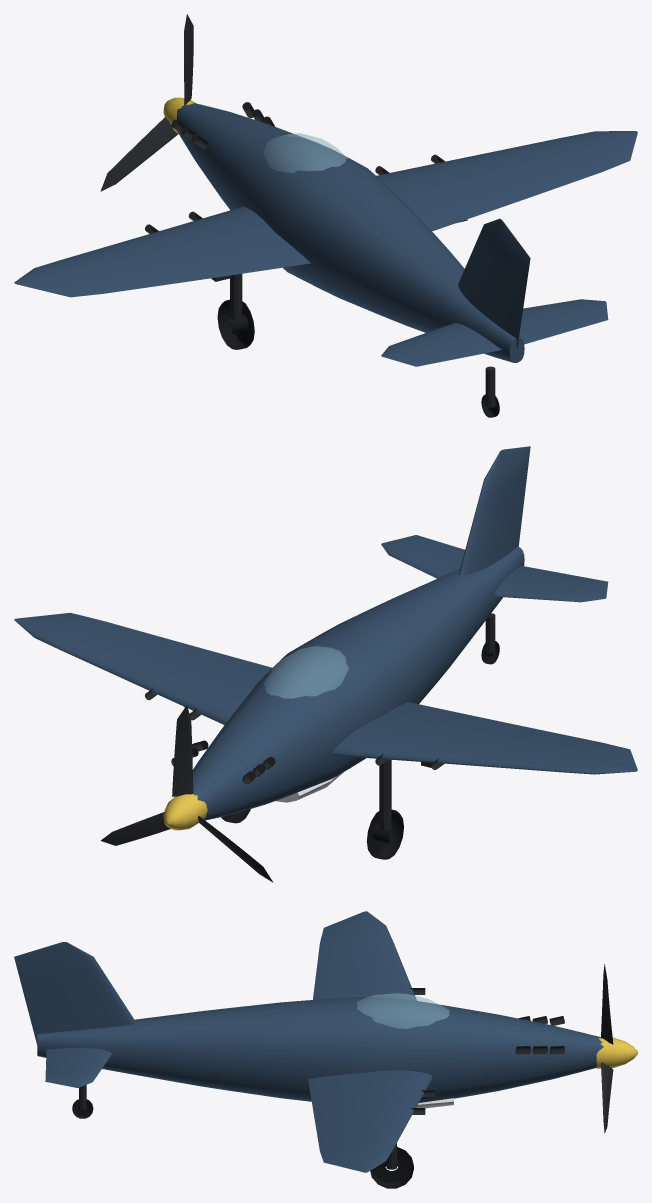
The model's file is comet.glb.
3 views of the same model, one above another, from view 1: azimuth 30°, elevation 25°; view 2: azimuth 150°, elevation 25°; view 3: azimuth 270°, elevation 25° (orthographic). The views are drawn at different scales.
Visible parts, largest first — view 1: AIRFRAME, HULL, PROP_0, GLASS; view 2: AIRFRAME, HULL, PROP_0, GLASS; view 3: HULL, AIRFRAME, GLASS, PROP_0.
Boxes of the visible parts, bbox=[...] form: AIRFRAME: bbox=[14, 131, 637, 417]; HULL: bbox=[171, 102, 524, 362]; PROP_0: bbox=[100, 14, 195, 191]; GLASS: bbox=[263, 133, 347, 172]; AIRFRAME: bbox=[14, 446, 637, 859]; HULL: bbox=[171, 546, 524, 820]; PROP_0: bbox=[101, 705, 273, 882]; GLASS: bbox=[263, 646, 348, 698]; HULL: bbox=[37, 996, 603, 1108]; AIRFRAME: bbox=[14, 911, 435, 1188]; GLASS: bbox=[357, 993, 448, 1028]; PROP_0: bbox=[596, 964, 637, 1133].
Size of the model in its own units: 10.4 by 3.98 by 10.51.
